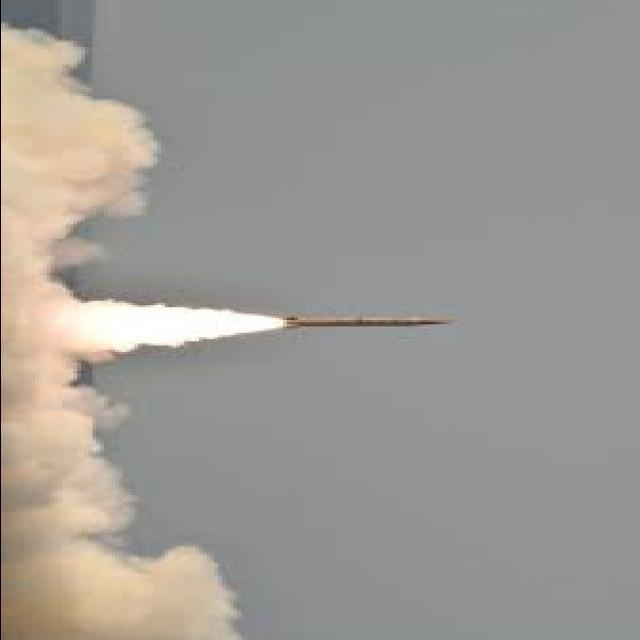missile: (277, 314, 468, 334)
